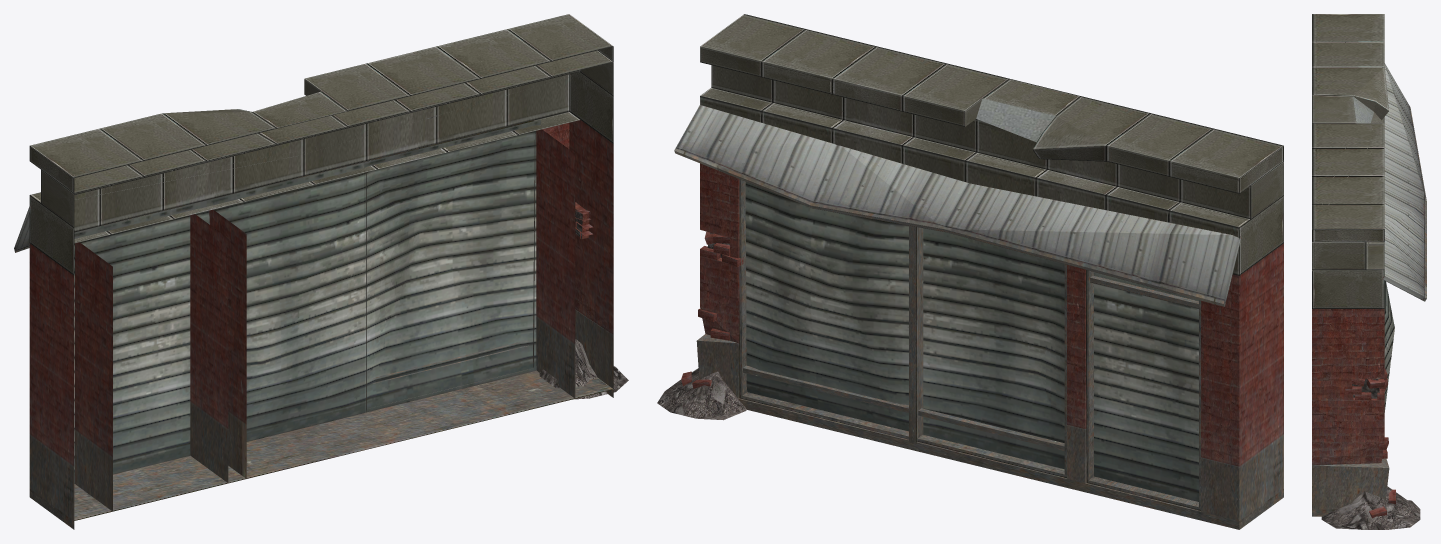
The model's file is Store_front_24.fbx.
3 renders of one model, left to right at view 1: azimuth 30°, elevation 25°; view 2: azimuth 150°, elevation 25°; view 3: azimuth 270°, elevation 25°, orthographic. The views are drawn at different scales.
Parts seen in each view (by area): view 1: Store_front_24; view 2: Store_front_24; view 3: Store_front_24.
Boxes of the visible parts, x1,y1,x2,y2 form: Store_front_24: (14,14,628,529); Store_front_24: (657,14,1283,529); Store_front_24: (1312,14,1426,529).
Size of the model in its own units: 744 by 436 by 158.
